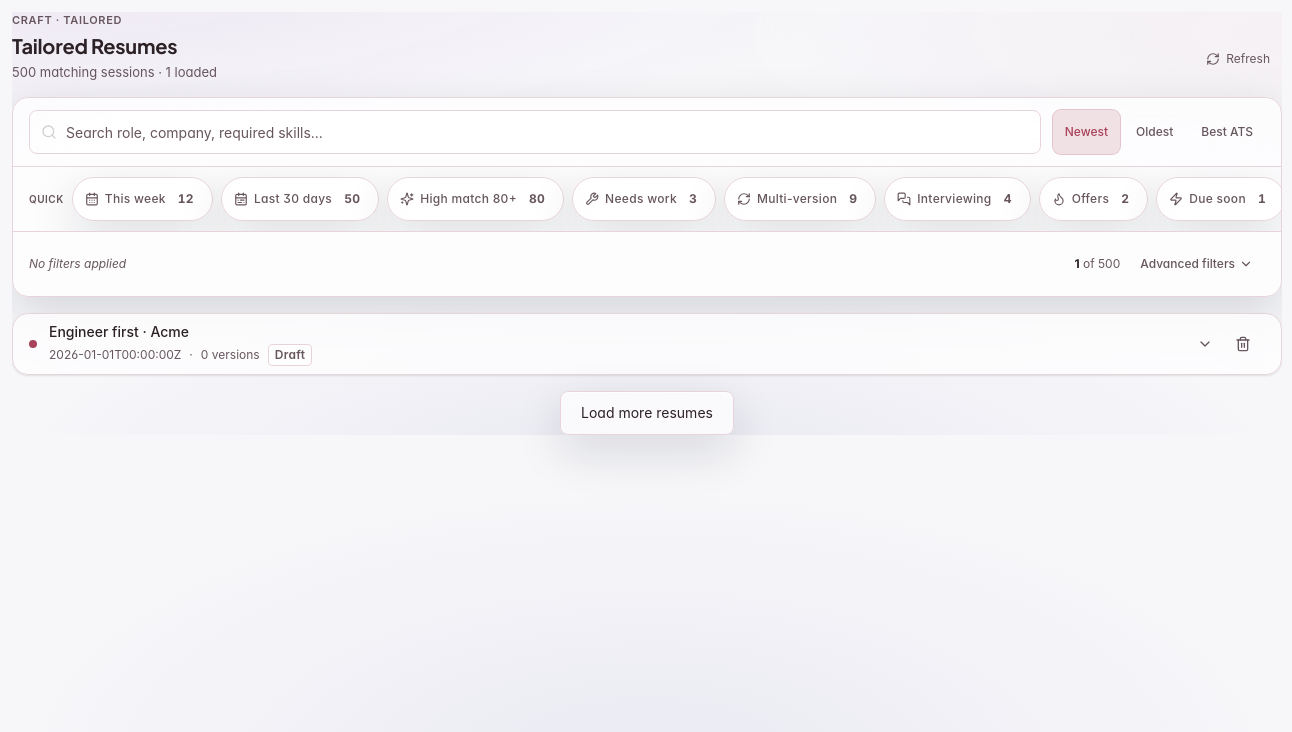
Scenario: on-demand tailored history › ignores an old Load more response after changing filters
Expected: the text "Engineer first · Acme" is shown, [49,323,189,340]
Click the button "Load more resumes" at (647, 413), box [560,391,734,435]
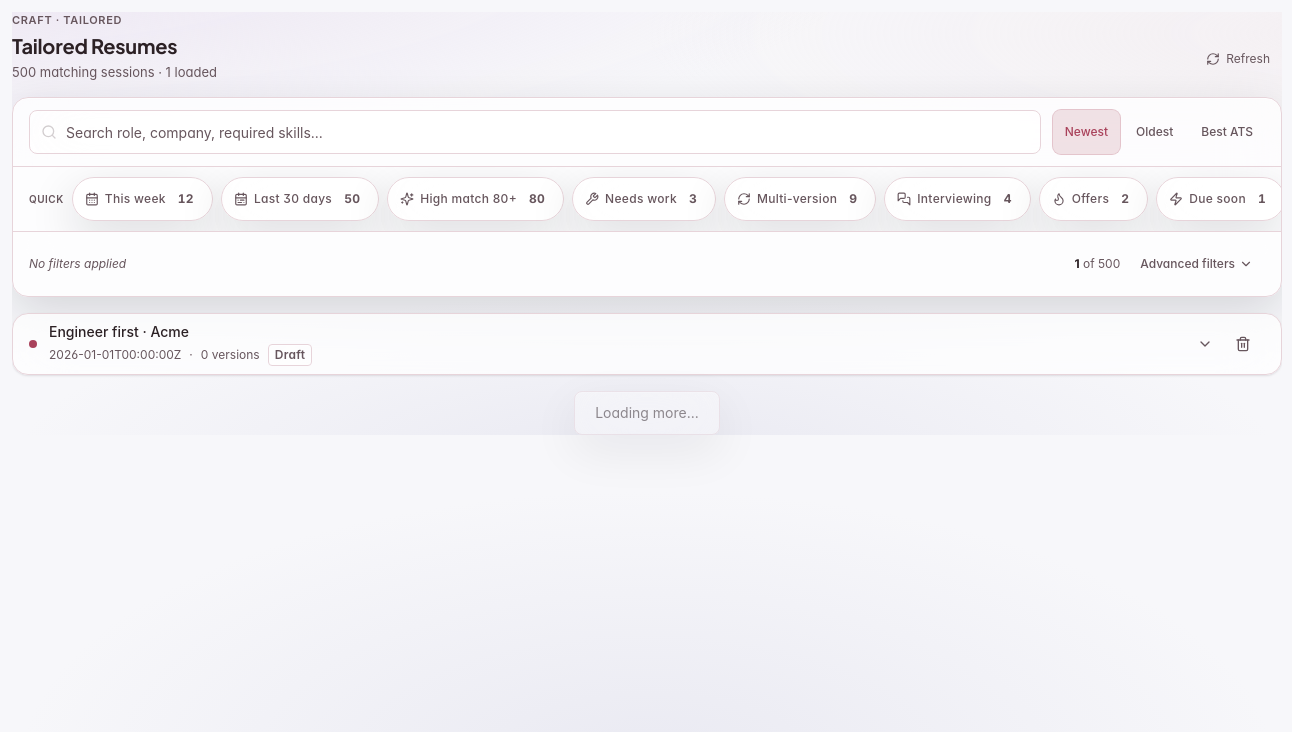
Type "filtered" into the field named "Search tailored resumes" at (535, 132), box [29,110,1041,154]
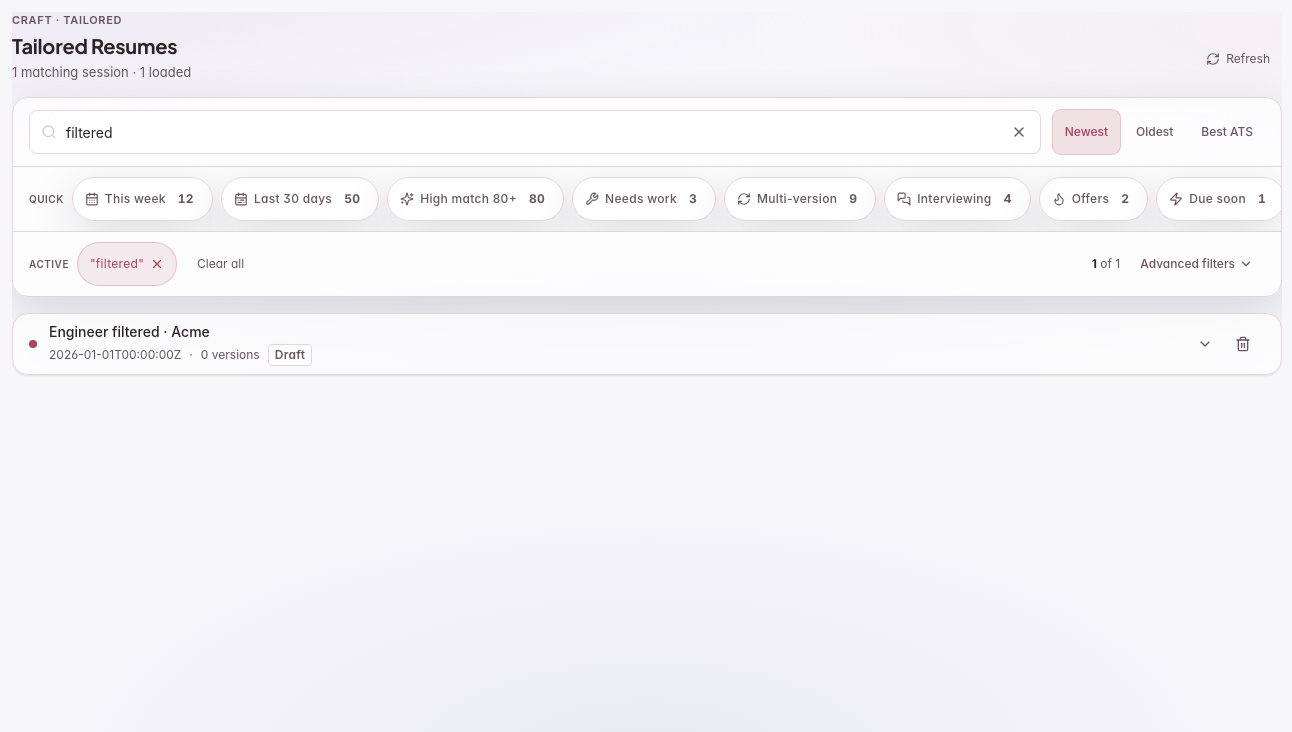
Now the text "Engineer filtered · Acme" is shown, box [49,323,210,340]
Now the button "Engineer first · Acme" is gone
